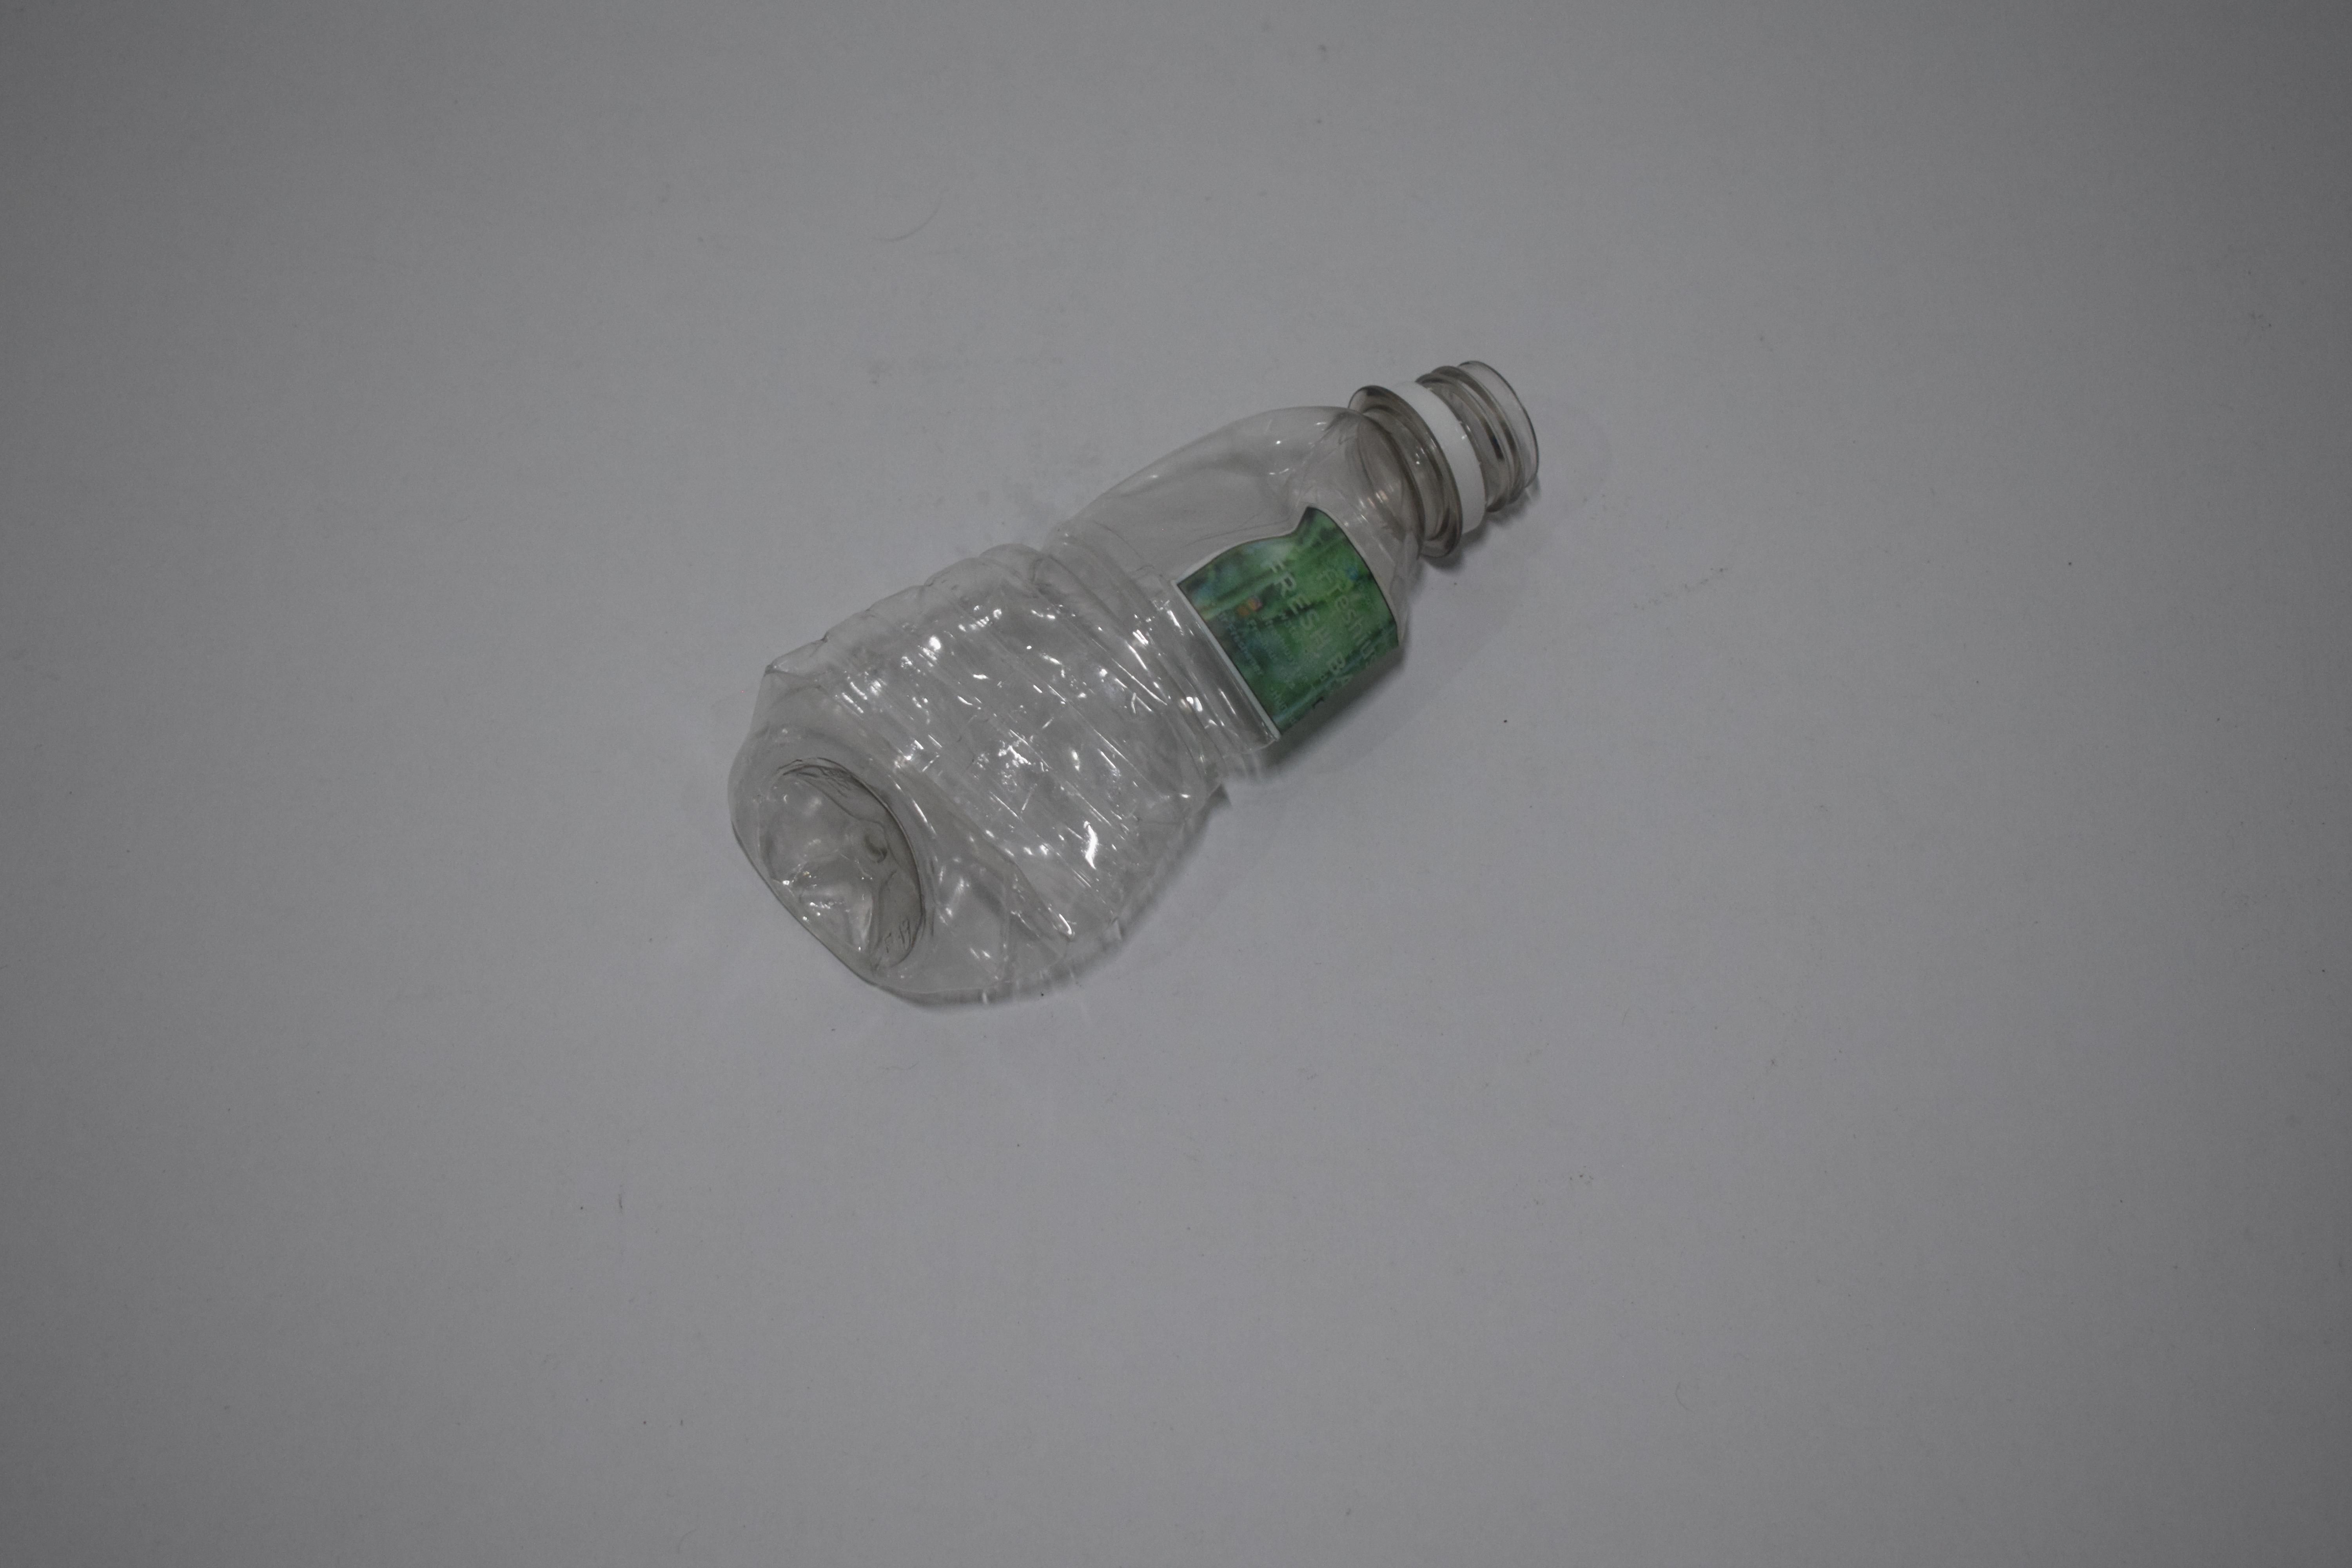bottle: (779, 345, 1489, 1006)
